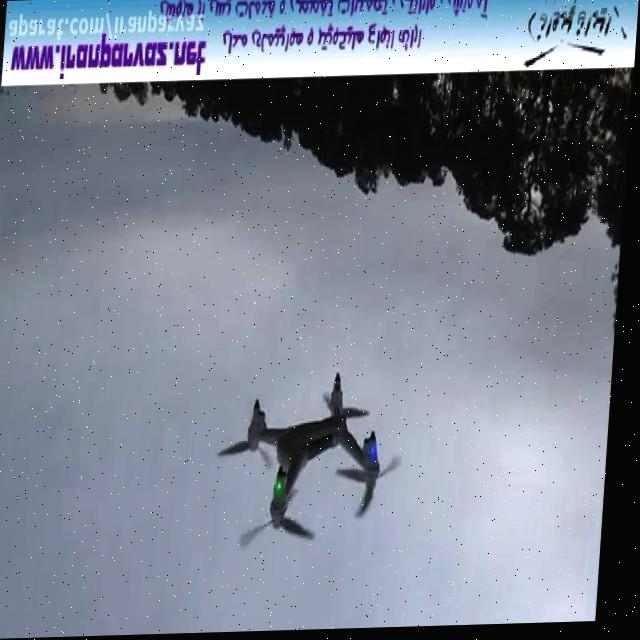drone: (214, 369, 417, 559)
